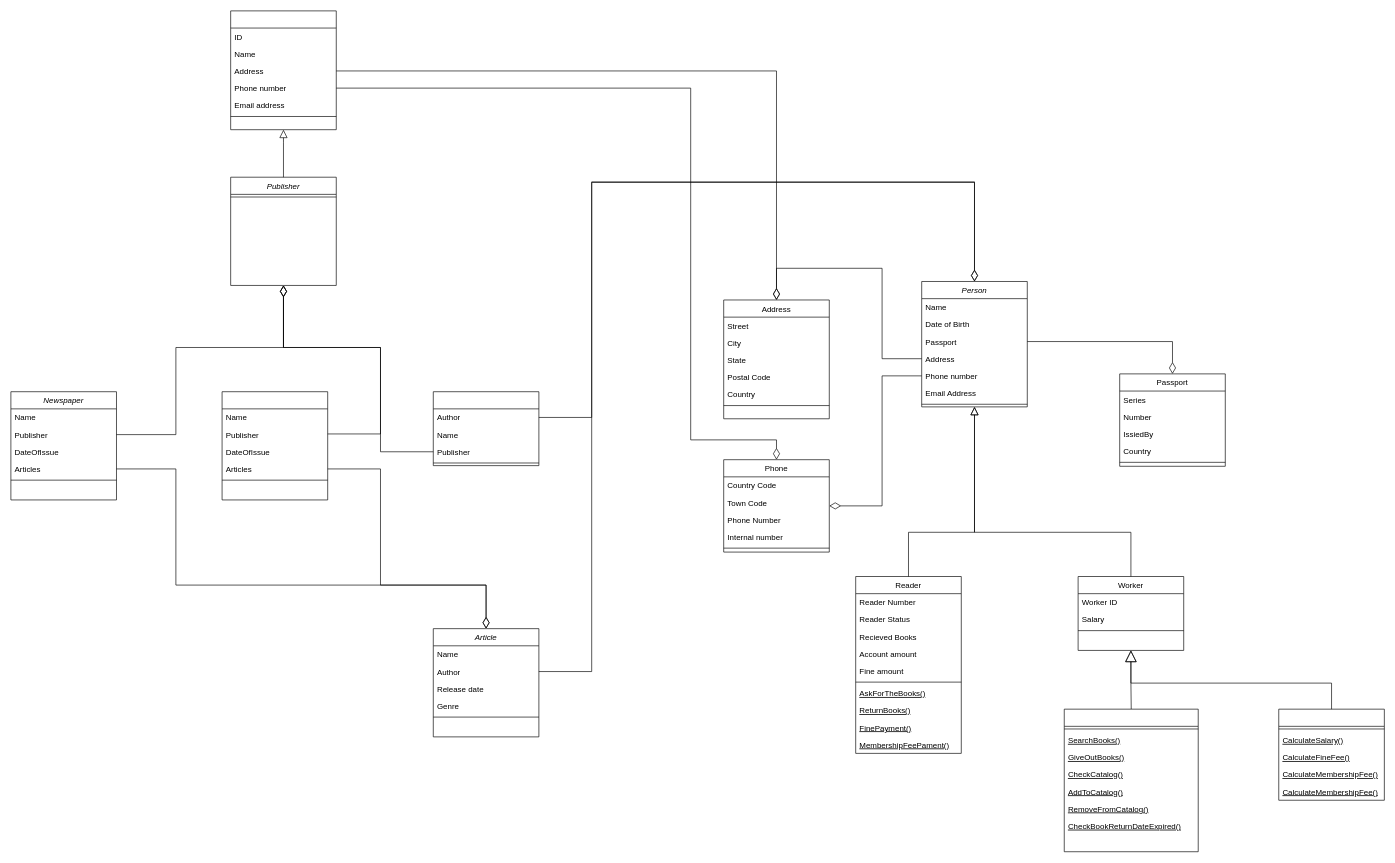
Some shapes in this 1395 by 863 pixel diagram are drawn without their labels. The box of each missing label's shape, as (x1, y1, x2, y2) in pixels:
Book: (433, 391, 539, 466)
Cheif Accountant: (1278, 709, 1384, 800)
Company: (230, 10, 336, 130)
Librarian: (1064, 709, 1198, 852)
Magazine: (221, 391, 328, 500)
